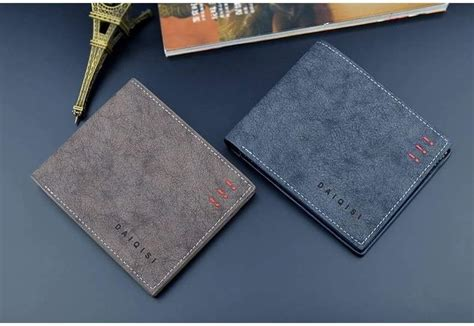gamuza: (33, 40, 450, 296)
